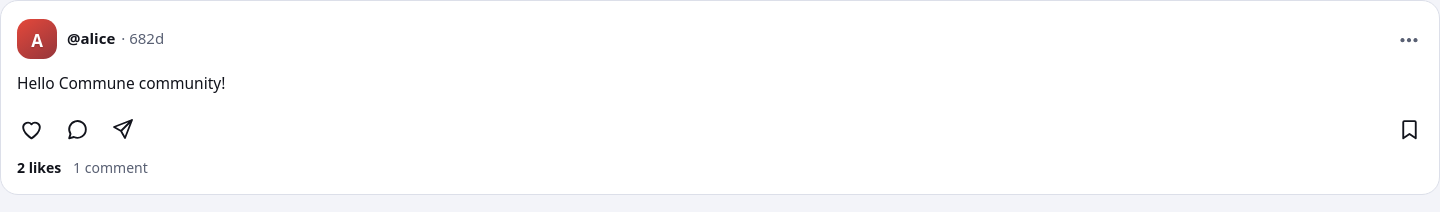
Scenario: PostCard sharing › falls back to copying the post link with toast feedback when navigator.share is absent
What coordinates should you click on to do the following:
click the button named "Share post"
I would click on:
 (123, 129)
Its box is [101,107,145,151].
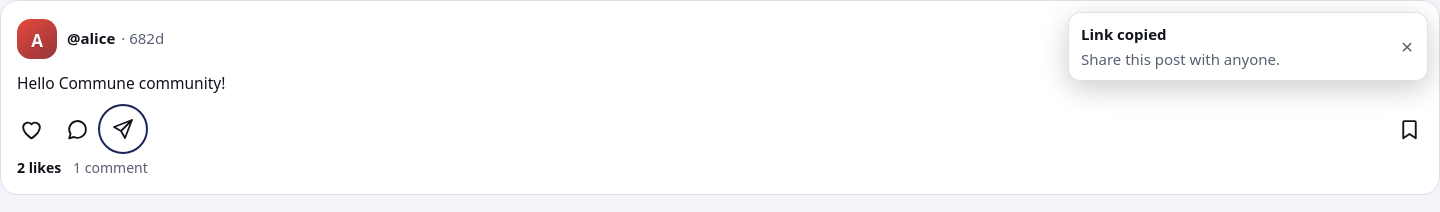
Expected: the message shows "Link copied", [1069,13,1387,80]
Expected: the message shows "Share this post with anyone.", [1069,13,1387,80]
